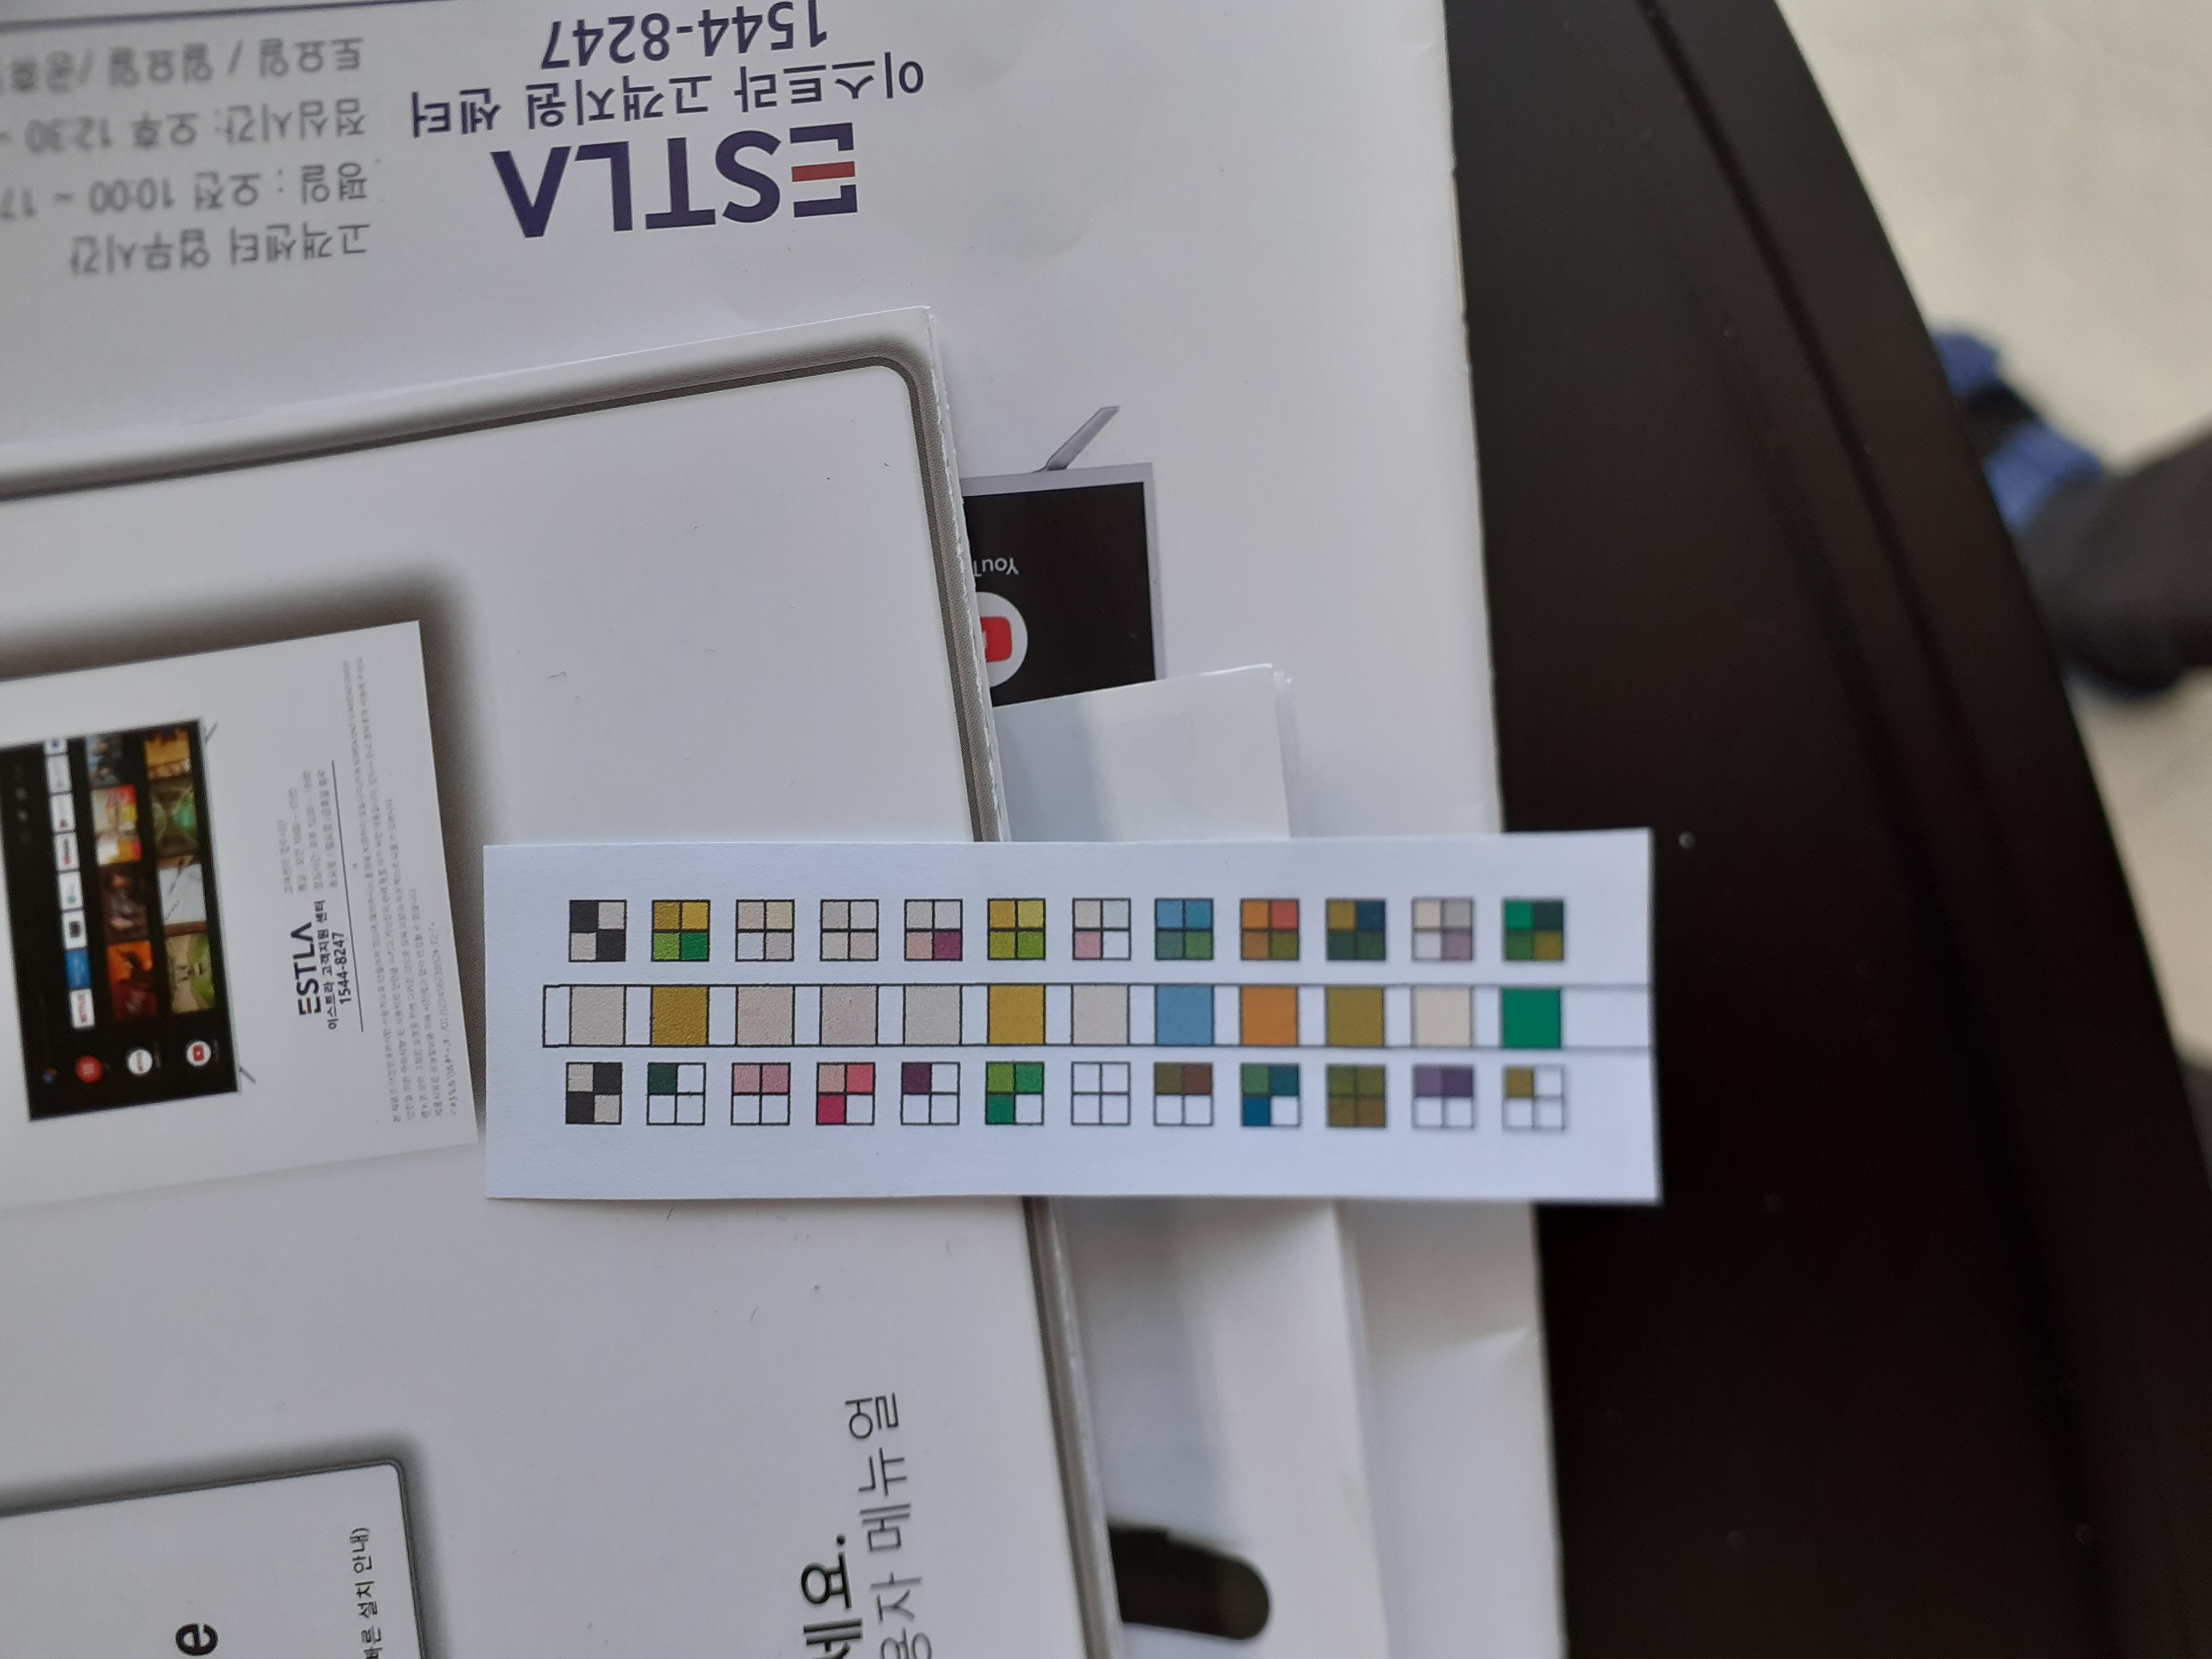tester: (484, 845, 1651, 1202)
